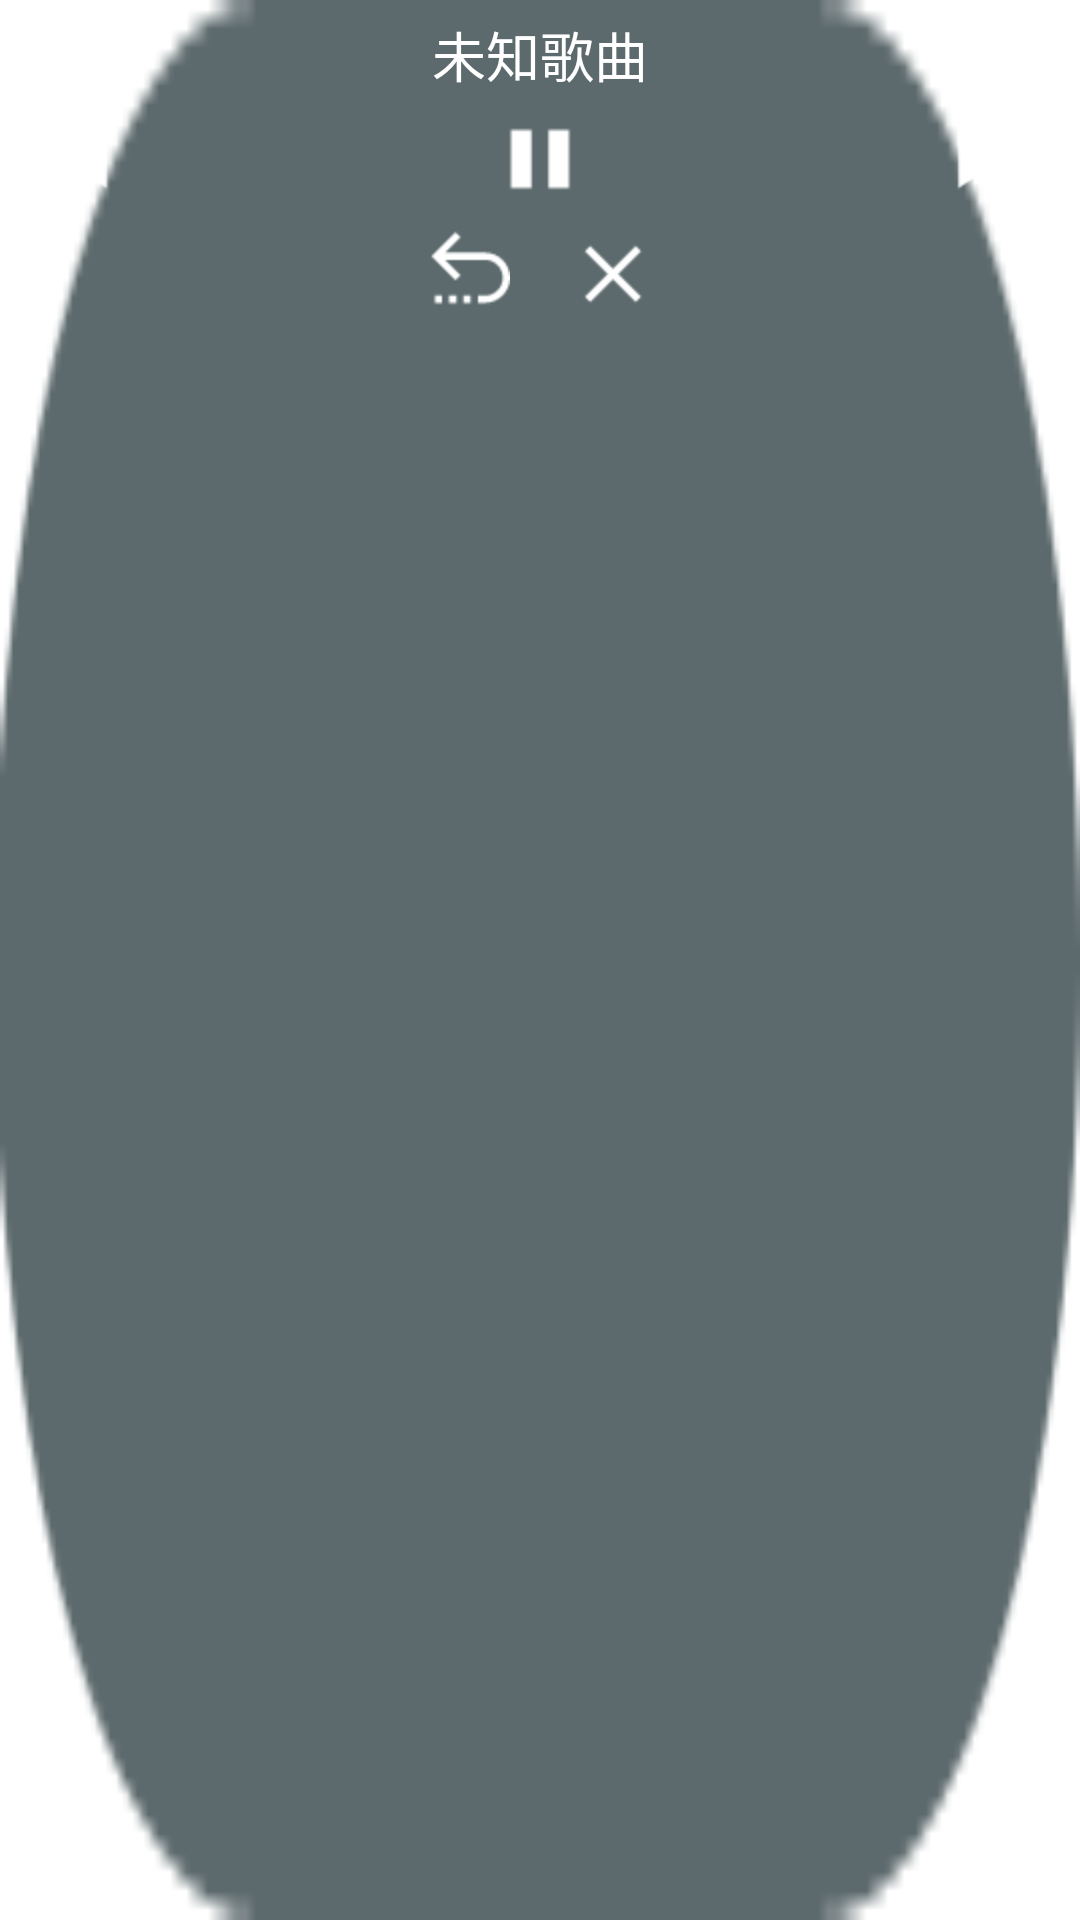

Icon bounding boxes for this 1080 x 1920 phone screenshot, format (x1, y1, x2, y2):
float exit: (585, 246, 641, 302)
float return: (431, 232, 510, 304)
not play: (510, 129, 570, 189)
